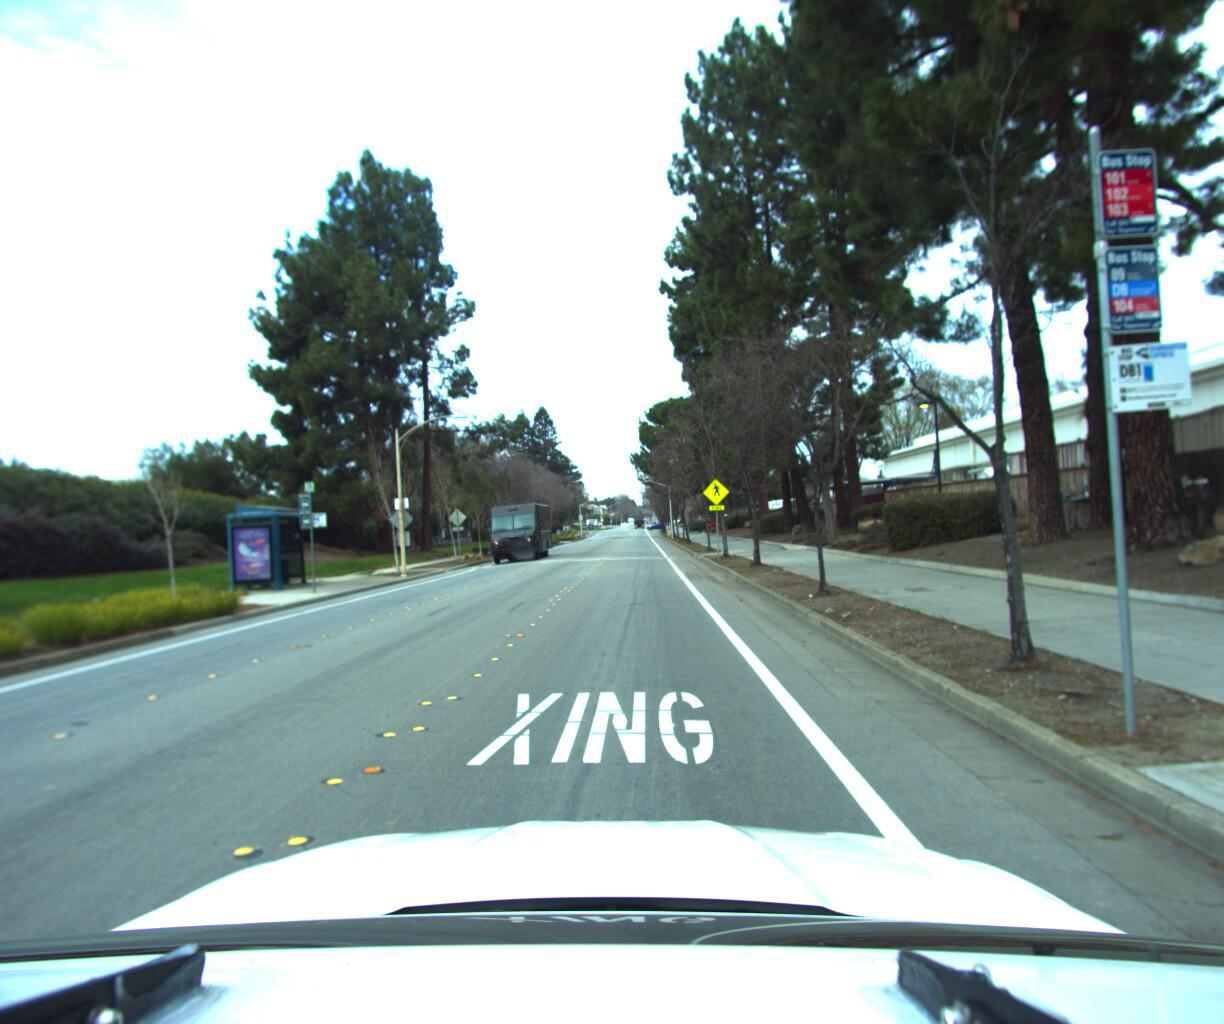other_vehicle: (761, 487, 865, 520)
truck: (483, 496, 557, 565)
